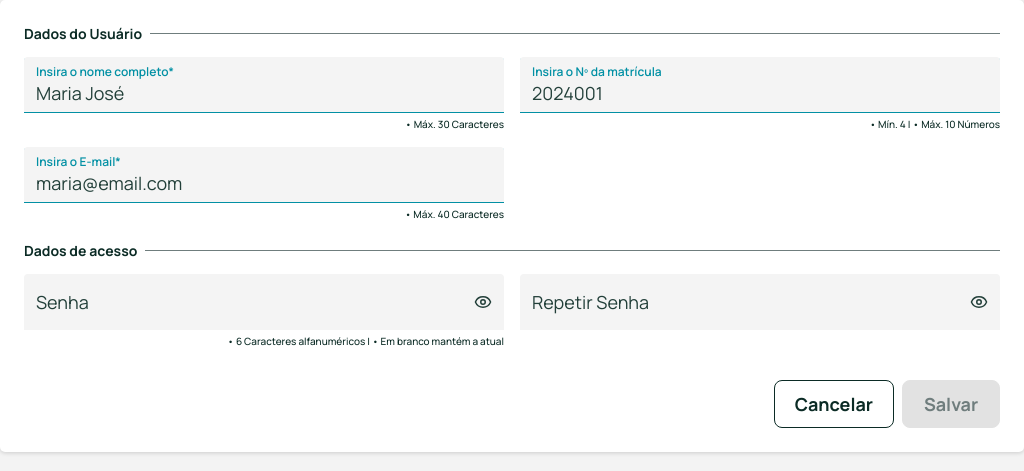
Test: UserForm — edição › só habilita "Salvar" depois de alguma alteração
Expected: the button "Salvar" is disabled, 902,380 -> 1000,428
Type " Silva" into the field labelled "Insira o nome completo*" at coordinates (264, 85), box 24,57 -> 504,113
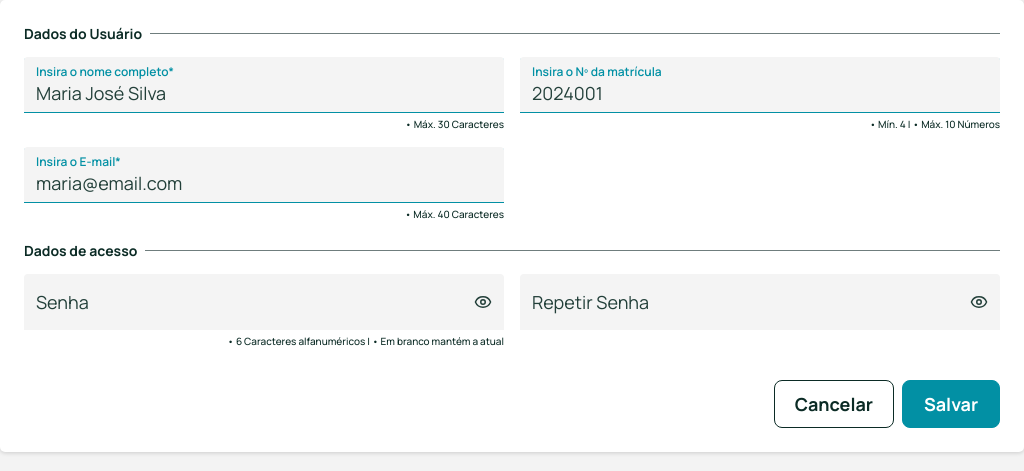
Result: the button "Salvar" is enabled at 902,380 -> 1000,428
